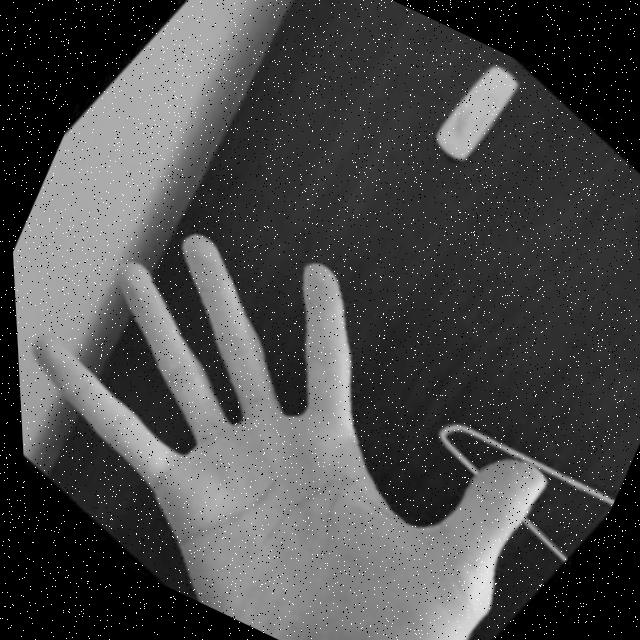hand: (6, 153, 623, 640)
